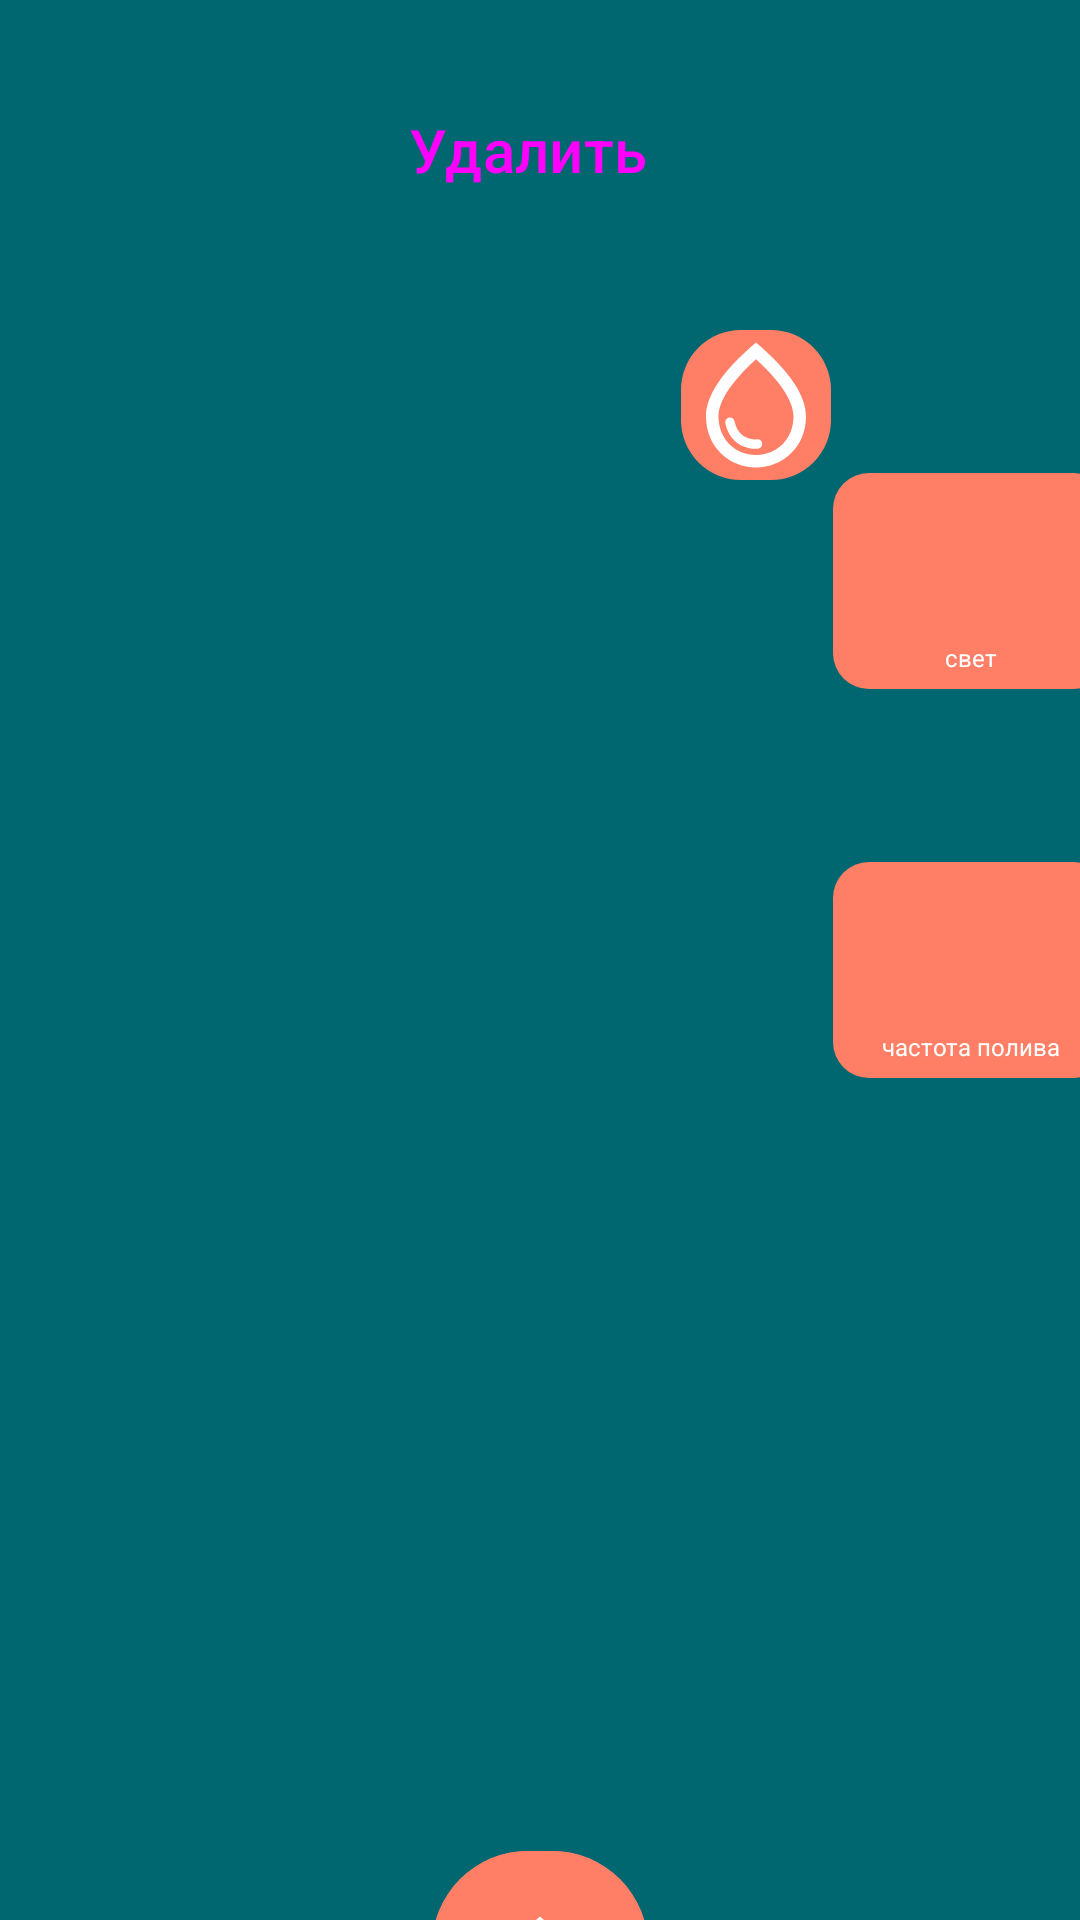

Screen size 1080×1920. Icon name, then its center in pixels as point (x, y):
water: point (756, 405)
